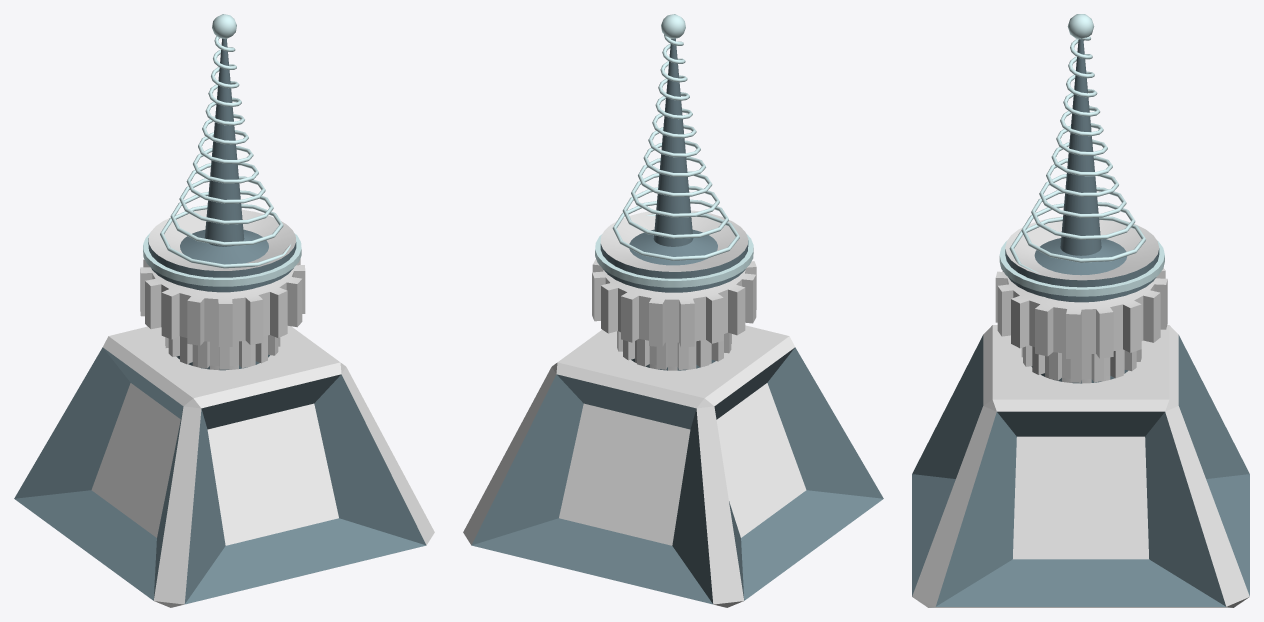
Rendered from Button_moving.fbx.
3 renders of one model, left to right at view 1: azimuth 30°, elevation 25°; view 2: azimuth 150°, elevation 25°; view 3: azimuth 270°, elevation 25°, orthographic. The views are drawn at different scales.
Parts seen in each view (by area): view 1: base, button 01, wheel_up, wheel_down; view 2: base, button 01, wheel_up, wheel_down; view 3: base, button 01, wheel_up, wheel_down.
Boxes of the visible parts, x1=… form: base: x1=14, y1=326, x2=434, y2=607; button 01: x1=143, y1=14, x2=301, y2=370; wheel_up: x1=140, y1=258, x2=305, y2=346; wheel_down: x1=165, y1=335, x2=280, y2=369; base: x1=463, y1=325, x2=883, y2=607; button 01: x1=595, y1=14, x2=753, y2=370; wheel_up: x1=592, y1=259, x2=756, y2=347; wheel_down: x1=617, y1=331, x2=731, y2=369; base: x1=912, y1=325, x2=1249, y2=607; button 01: x1=999, y1=14, x2=1164, y2=383; wheel_up: x1=995, y1=268, x2=1167, y2=359; wheel_down: x1=1021, y1=345, x2=1141, y2=382.
Size of the model in its own units: 97.53 by 168 by 97.53.
